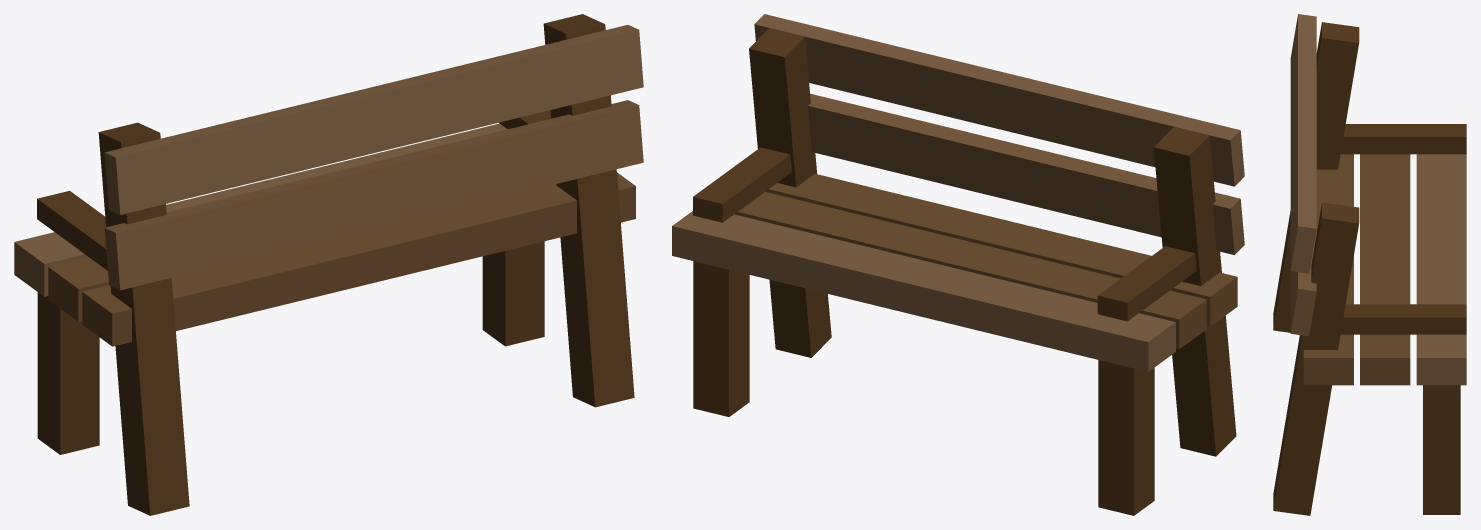
File: Bench.glb
The picture shows the model from 3 angles, left to right: view 1: azimuth 30°, elevation 25°; view 2: azimuth 150°, elevation 25°; view 3: azimuth 270°, elevation 25°; orthographic projection. The views are drawn at different scales.
Parts seen in each view (by area): view 1: Body; view 2: Body; view 3: Body.
Part boxes in pixels (x1=…): Body: x1=14, y1=14, x2=643, y2=515; Body: x1=672, y1=14, x2=1244, y2=515; Body: x1=1273, y1=14, x2=1466, y2=515.
Size of what is drawn, in the model's own units: 4 by 2.62 by 1.54.
